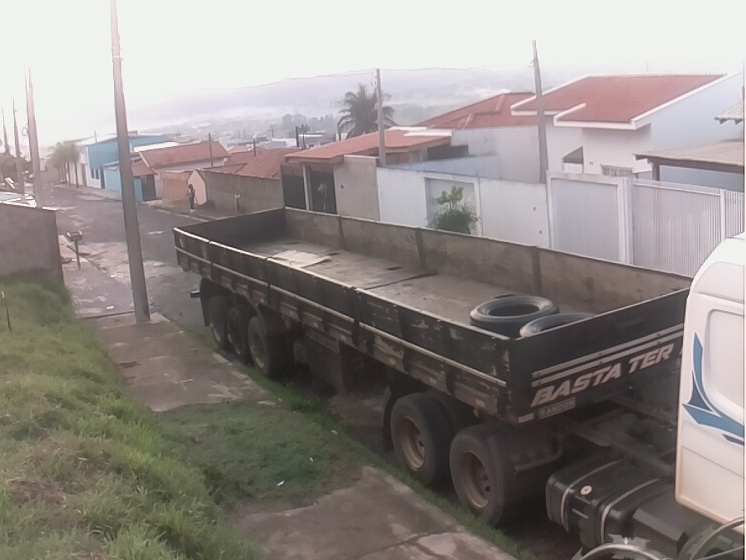person: (186, 182, 198, 214)
